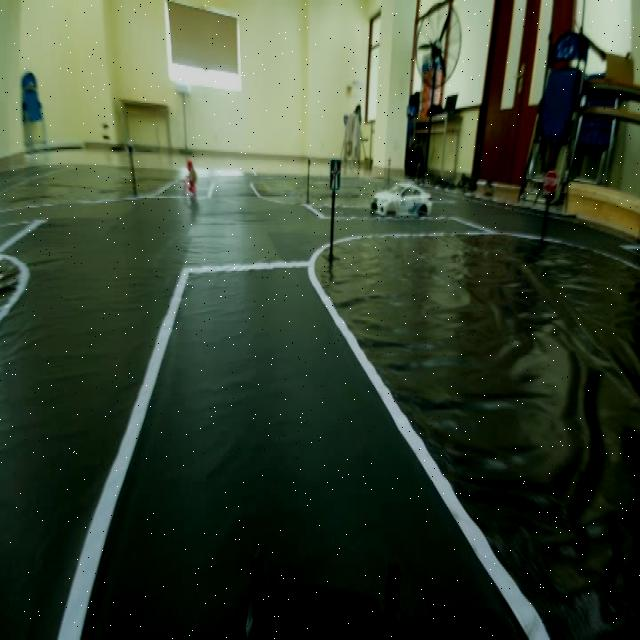highway_exit: (324, 152, 344, 192)
